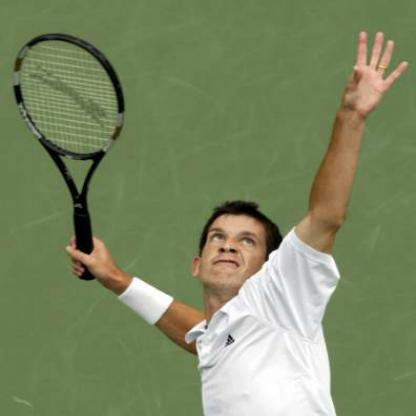face: (198, 207, 273, 298)
